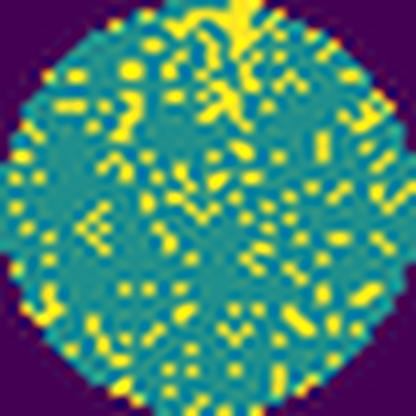Loc: (164, 0, 271, 93), (190, 25, 252, 135)
